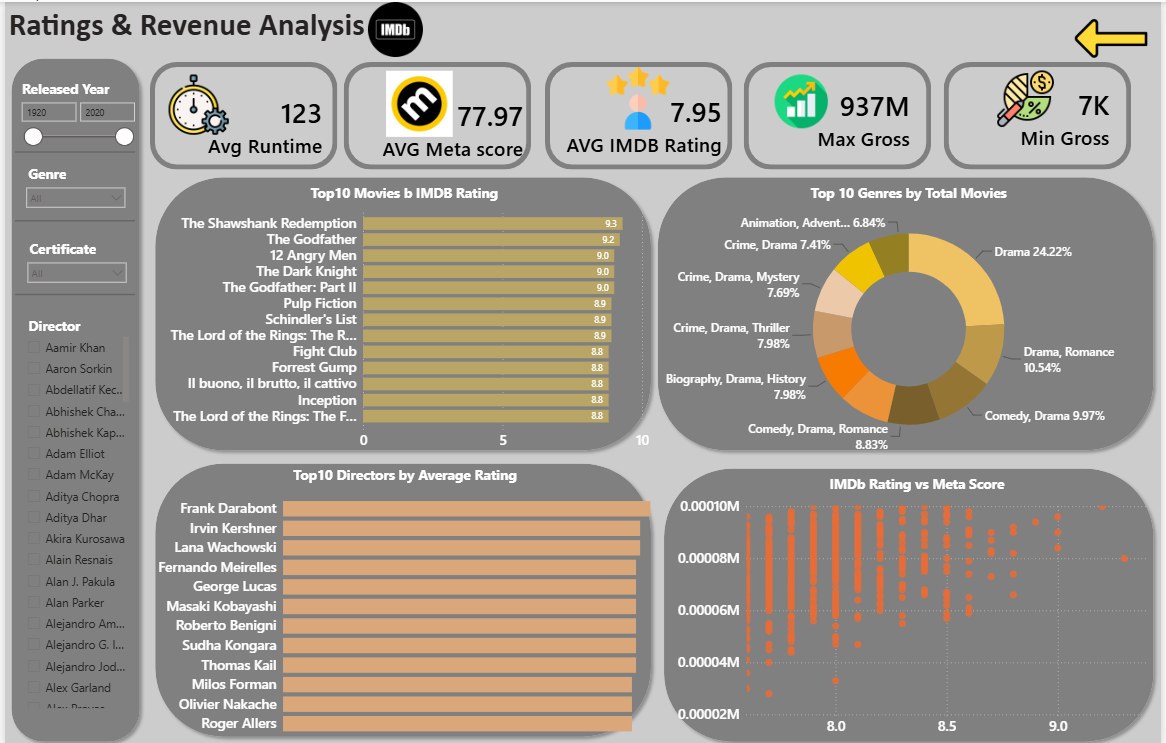

This screenshot's page, from the dashboard's own definition file:
{"tool":"powerbi","page":{"name":"Analysis 2","canvas":[1580,1020],"ordinal":1},"visuals":[{"type":"textbox","box":[0,0,528.3,68.6],"z":0},{"type":"shape","box":[0,68.4,193.1,952],"z":1000},{"type":"cardVisual","fields":{"Data":["DAX.Total Movies"]},"box":[287.1,75.2,167.5,162.4],"z":2000},{"type":"shape","box":[198.3,82,256.4,147],"z":3000},{"type":"shape","box":[1283.6,82,256.4,147],"z":4000},{"type":"shape","box":[1010.1,82,256.4,147],"z":5000},{"type":"shape","box":[738.3,82,256.4,147],"z":6000},{"type":"shape","box":[463.2,82,256.4,147],"z":7000},{"type":"cardVisual","fields":{"Data":["DAX.Min Gross"]},"box":[1350.2,85.5,189.7,145.3],"z":8000},{"type":"cardVisual","fields":{"Data":["DAX.Max Gross"]},"box":[1073.3,87.2,193.1,145.3],"z":9000},{"type":"cardVisual","fields":{"Data":["Avg(imdb_top_1000.IMDB_Rating)"]},"box":[680.2,94,329.9,148.7],"z":10000},{"type":"cardVisual","fields":{"Data":["Avg(imdb_top_1000.Meta_score)"]},"box":[391.4,100.8,347,145.3],"z":11000},{"type":"shape","box":[196.5,230.7,695.6,391.4],"z":12000},{"type":"shape","box":[883.6,230.7,695.6,391.4],"z":13000},{"type":"shape","box":[196.5,622.1,695.6,391.4],"z":14000},{"type":"shape","box":[892.2,629,687.1,391.4],"z":15000},{"type":"scatterChart","title":"IMDb Rating vs Meta Score","fields":{"X":["imdb_top_1000.IMDB_Rating"],"Y":["imdb_top_1000.Meta_score"]},"box":[914.4,646,664.8,367.5],"z":18000},{"type":"slicer","fields":{"Values":["imdb_top_1000.Released_Year"]},"box":[10.3,100.8,174.3,165.8],"z":20000},{"type":"slicer","fields":{"Values":["imdb_top_1000.Genre"]},"box":[18.8,217.1,155.5,73.5],"z":21000},{"type":"slicer","fields":{"Values":["imdb_top_1000.Certificate"]},"box":[20.5,319.6,155.5,80.3],"z":22000},{"type":"slicer","fields":{"Values":["imdb_top_1000.Director"]},"box":[18.8,425.6,155.5,545.2],"z":23000},{"type":"shape","box":[13.7,184.6,164.1,41],"z":24000},{"type":"shape","box":[13.7,278.6,164.1,41],"z":25000},{"type":"shape","box":[13.7,379.4,164.1,41],"z":26000},{"type":"image","box":[480.3,0,107.7,75.2],"z":27000},{"type":"clusteredBarChart","title":"Top10 Movies b IMDB Rating","fields":{"Category":["imdb_top_1000.Series_Title"],"Y":["Avg(imdb_top_1000.IMDB_Rating)"]},"box":[206.8,247.8,678.5,374.3],"z":28000},{"type":"image","box":[1445.9,0,133.3,99.1],"z":29000},{"type":"cardVisual","fields":{"Data":["DAX.Avg Runtime"]},"box":[235.9,82,227.3,174.3],"z":30000},{"type":"image","box":[206.8,99.1,116.2,82],"z":31000},{"type":"image","box":[492.2,94,148.7,90.6],"z":32000},{"type":"image","box":[794.7,88.9,141.9,85.5],"z":33000},{"type":"image","box":[1044.3,99.1,88.9,73.5],"z":34000},{"type":"image","box":[1305.8,92.3,179.5,80.3],"z":35000},{"type":"clusteredBarChart","title":"Top10 Directors by Average Rating","fields":{"Category":["imdb_top_1000.Director"],"Y":["Avg(imdb_top_1000.IMDB_Rating)"]},"box":[203.4,634.1,687.1,379.4],"z":36000},{"type":"donutChart","title":"Top 10 Genres by Total Movies","fields":{"Category":["imdb_top_1000.Genre"],"Y":["DAX.Total Movies"]},"box":[892.2,247.8,687.1,374.3],"z":37000}]}

Visuals, with their boxes in screenshot pixels (x1, y1, x2, y2), scaled from the page's 1580x1020 canvas onto the 1166x743 screenshot:
textbox: x1=0 y1=0 x2=390 y2=50
shape: x1=0 y1=50 x2=143 y2=742
cardVisual - DAX.Total Movies: x1=212 y1=55 x2=335 y2=173
shape: x1=146 y1=60 x2=336 y2=167
shape: x1=947 y1=60 x2=1136 y2=167
shape: x1=745 y1=60 x2=935 y2=167
shape: x1=545 y1=60 x2=734 y2=167
shape: x1=342 y1=60 x2=531 y2=167
cardVisual - DAX.Min Gross: x1=996 y1=62 x2=1136 y2=168
cardVisual - DAX.Max Gross: x1=792 y1=64 x2=935 y2=169
cardVisual - Avg(imdb_top_1000.IMDB_Rating): x1=502 y1=68 x2=745 y2=177
cardVisual - Avg(imdb_top_1000.Meta_score): x1=289 y1=73 x2=545 y2=179
shape: x1=145 y1=168 x2=658 y2=453
shape: x1=652 y1=168 x2=1165 y2=453
shape: x1=145 y1=453 x2=658 y2=738
shape: x1=658 y1=458 x2=1165 y2=742
"IMDb Rating vs Meta Score" scatterChart: x1=675 y1=471 x2=1165 y2=738
slicer - imdb_top_1000.Released_Year: x1=8 y1=73 x2=136 y2=194
slicer - imdb_top_1000.Genre: x1=14 y1=158 x2=129 y2=212
slicer - imdb_top_1000.Certificate: x1=15 y1=233 x2=130 y2=291
slicer - imdb_top_1000.Director: x1=14 y1=310 x2=129 y2=707
shape: x1=10 y1=134 x2=131 y2=164
shape: x1=10 y1=203 x2=131 y2=233
shape: x1=10 y1=276 x2=131 y2=306
image: x1=354 y1=0 x2=434 y2=55
"Top10 Movies b IMDB Rating" clusteredBarChart: x1=153 y1=181 x2=653 y2=453
image: x1=1067 y1=0 x2=1165 y2=72
cardVisual - DAX.Avg Runtime: x1=174 y1=60 x2=342 y2=187
image: x1=153 y1=72 x2=238 y2=132
image: x1=363 y1=68 x2=473 y2=134
image: x1=586 y1=65 x2=691 y2=127
image: x1=771 y1=72 x2=836 y2=126
image: x1=964 y1=67 x2=1096 y2=126
"Top10 Directors by Average Rating" clusteredBarChart: x1=150 y1=462 x2=657 y2=738
"Top 10 Genres by Total Movies" donutChart: x1=658 y1=181 x2=1165 y2=453
